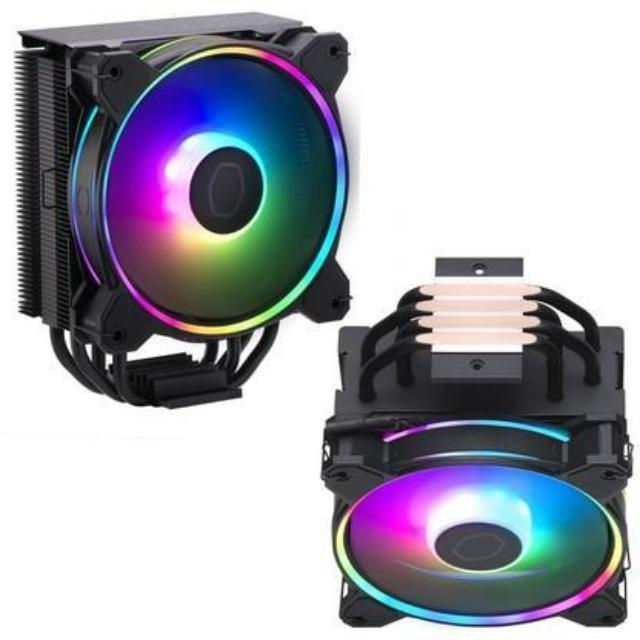CPU_Fan: (17, 15, 351, 410), (324, 256, 630, 630)
